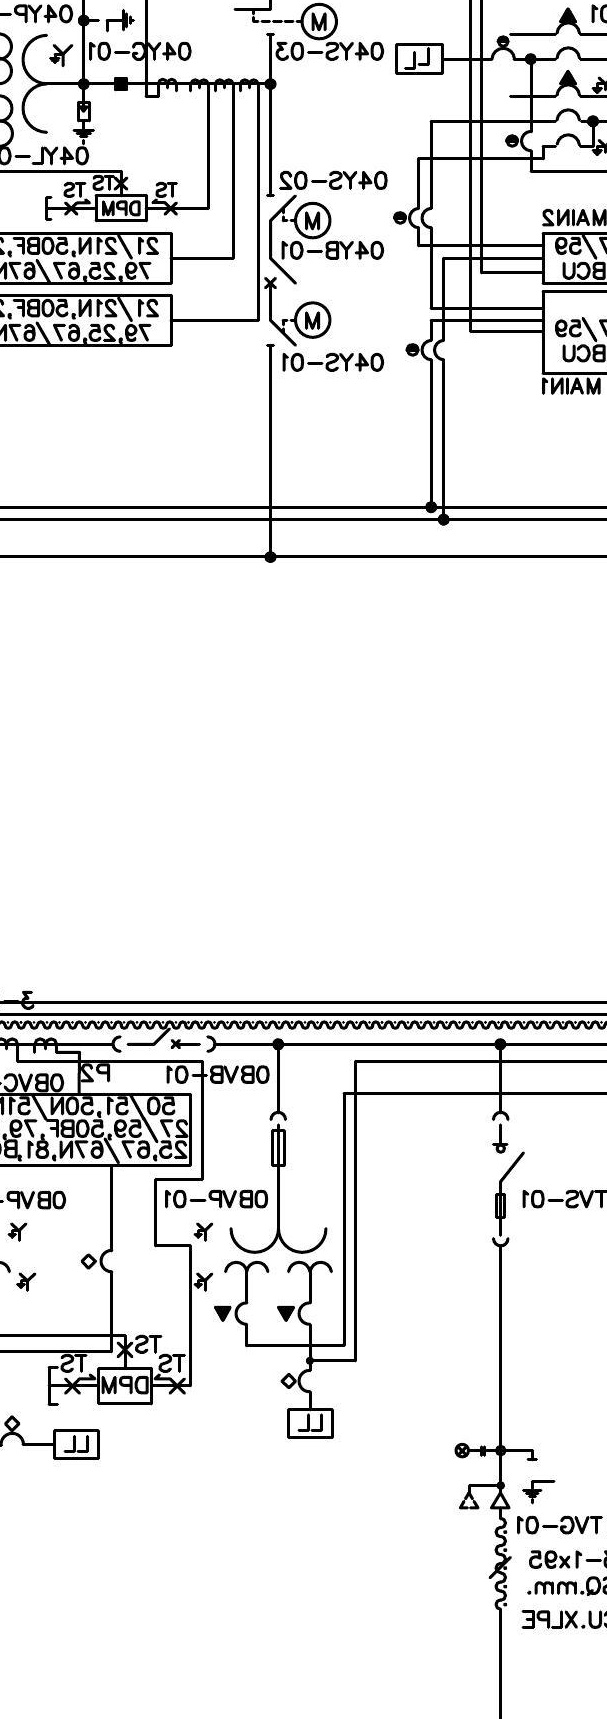115_1way_ds_w_motor: (233, 3, 340, 42), (265, 300, 333, 349), (265, 193, 333, 240)
115_breaker: (264, 258, 297, 289)
115_gs: (95, 8, 137, 33)
115_la: (72, 101, 96, 146)
22_breaker: (111, 1027, 216, 1054)
22_ds: (491, 1111, 526, 1248)
22_gs: (522, 1457, 557, 1505)
22_ll: (454, 1442, 486, 1459)
22_vt_3p: (193, 1109, 334, 1328)
DPM: (96, 1366, 154, 1405), (95, 194, 149, 223)
LL: (396, 43, 446, 76), (286, 1408, 335, 1439), (53, 1428, 101, 1460)
terminator_w_future: (458, 1483, 512, 1511)
